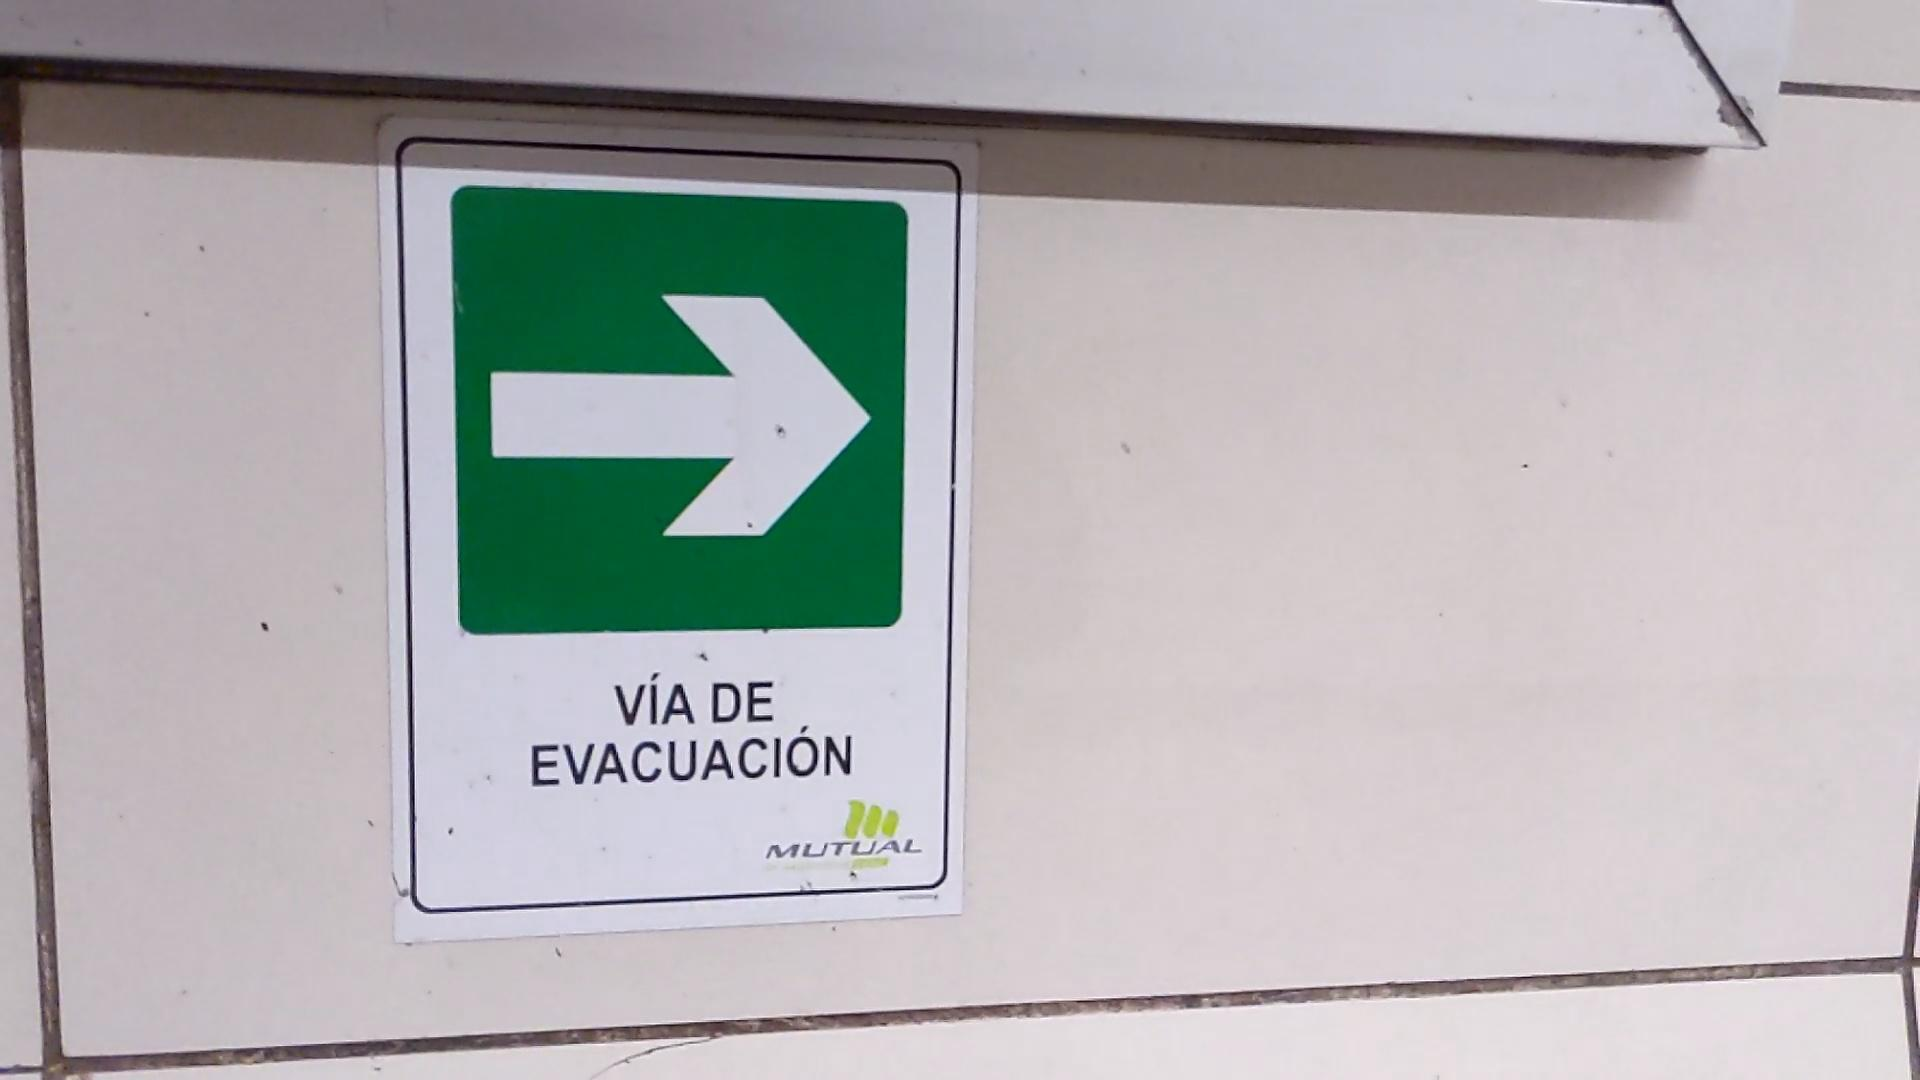thin right arrow: (480, 282, 878, 549)
